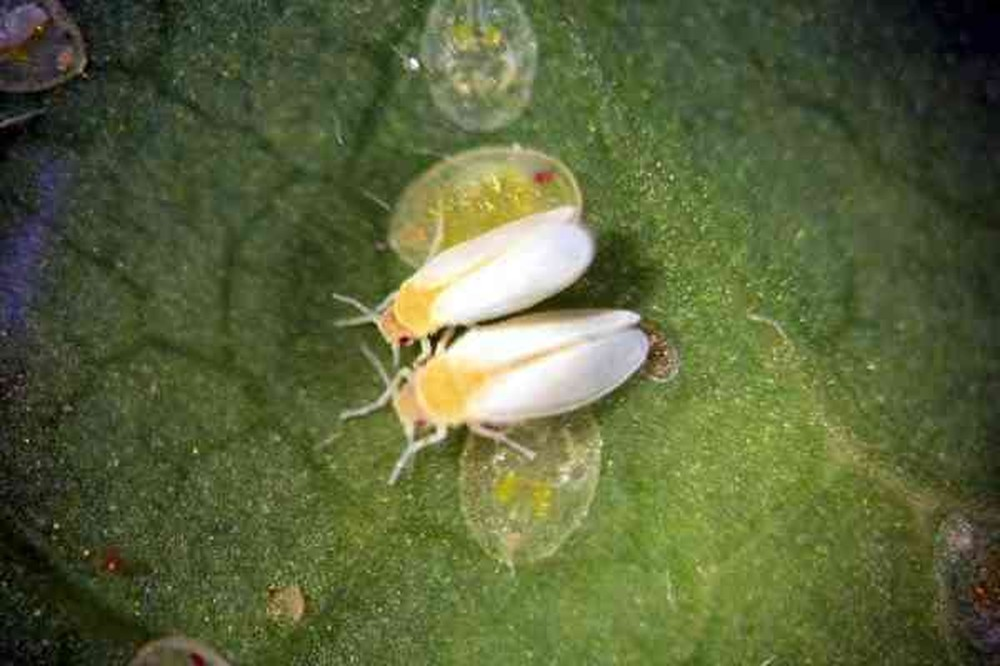Mosca Blanca: (325, 187, 654, 360), (353, 302, 650, 484)
